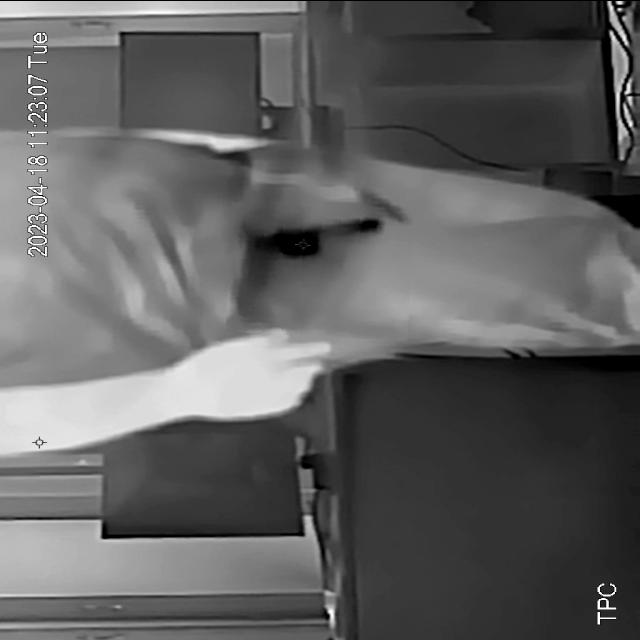Weapon: (228, 203, 412, 337)
